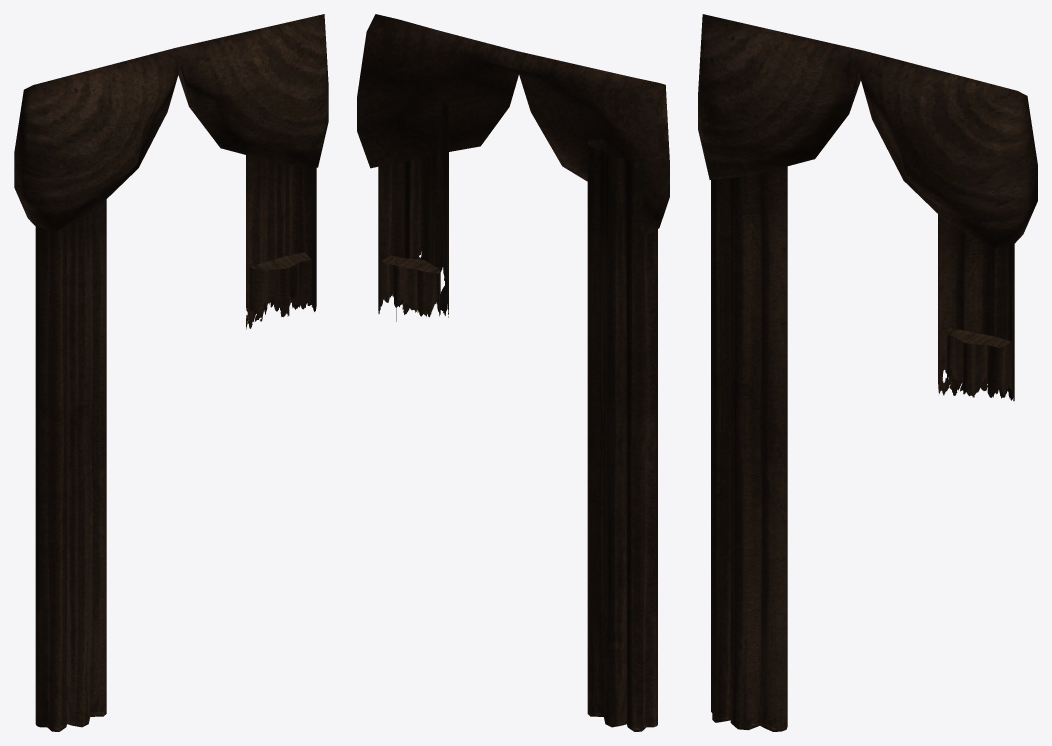
The model's file is curtain06_long_broken02.dae.
The picture shows the model from 3 angles, left to right: view 1: azimuth 30°, elevation 25°; view 2: azimuth 150°, elevation 25°; view 3: azimuth 330°, elevation 25°; orthographic projection. The views are drawn at different scales.
Parts seen in each view (by area): view 1: polySurface198, polySurface193, polySurface192; view 2: polySurface198, polySurface193, polySurface192; view 3: polySurface198, polySurface193, polySurface192.
Boxes of the visible parts, x1,y1,x2,y2 form: polySurface198: [14, 14, 328, 731]; polySurface193: [246, 155, 316, 329]; polySurface192: [249, 252, 311, 317]; polySurface198: [357, 14, 669, 731]; polySurface193: [378, 100, 448, 321]; polySurface192: [381, 255, 440, 317]; polySurface198: [698, 14, 1037, 731]; polySurface193: [938, 214, 1014, 401]; polySurface192: [947, 328, 1011, 397].
Size of what is drawn, in the model's own units: 2.5 by 5.08 by 0.4673.
